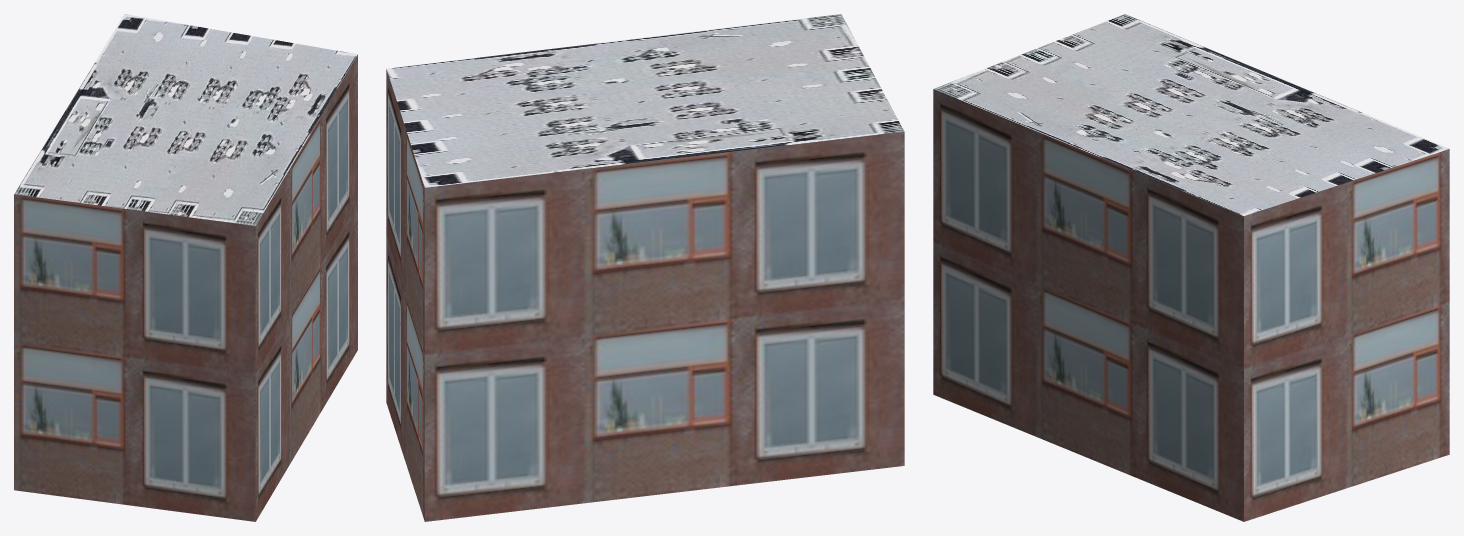
File: ResTex__1516.fbx
The picture shows the model from 3 angles, left to right: view 1: azimuth 30°, elevation 25°; view 2: azimuth 150°, elevation 25°; view 3: azimuth 270°, elevation 25°; orthographic projection. The views are drawn at different scales.
Parts seen in each view (by area): view 1: CityEngineMaterial_19_m, CityEngineMaterial_15_m; view 2: CityEngineMaterial_19_m, CityEngineMaterial_15_m; view 3: CityEngineMaterial_19_m, CityEngineMaterial_15_m.
Boxes of the visible parts, x1=… form: CityEngineMaterial_19_m: x1=14, y1=54, x2=357, y2=521; CityEngineMaterial_15_m: x1=14, y1=14, x2=357, y2=225; CityEngineMaterial_19_m: x1=386, y1=69, x2=904, y2=521; CityEngineMaterial_15_m: x1=386, y1=14, x2=904, y2=187; CityEngineMaterial_19_m: x1=933, y1=89, x2=1449, y2=521; CityEngineMaterial_15_m: x1=934, y1=14, x2=1448, y2=215.
Size of the model in its own units: 8.51 by 6 by 9.19.
2 materials, 2 textured.
